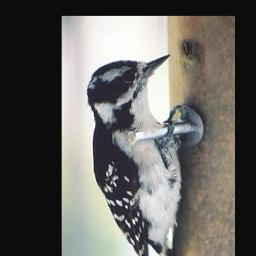Woodpecker: (86, 53, 188, 256)
